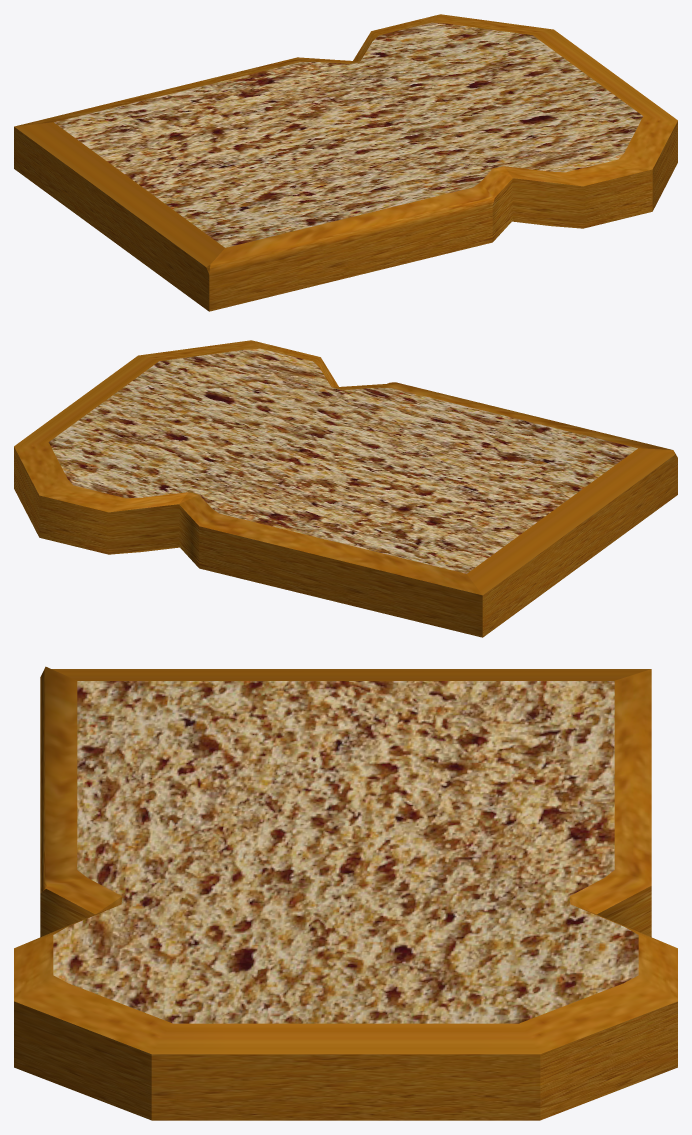
Rendered from bread slice.fbx.
The picture shows the model from 3 angles, top to bottom: view 1: azimuth 30°, elevation 25°; view 2: azimuth 150°, elevation 25°; view 3: azimuth 270°, elevation 25°; orthographic projection. The views are drawn at different scales.
Visible parts, largest first — view 1: pCube1; view 2: pCube1; view 3: pCube1.
Part boxes in pixels (<box>): pCube1: <box>14,14,677,311</box>; pCube1: <box>14,340,677,637</box>; pCube1: <box>14,666,677,1120</box>.
Bounding box in the file's own units: 1.93 × 0.199 × 1.41.
Materials: 1 (1 with a texture image).
